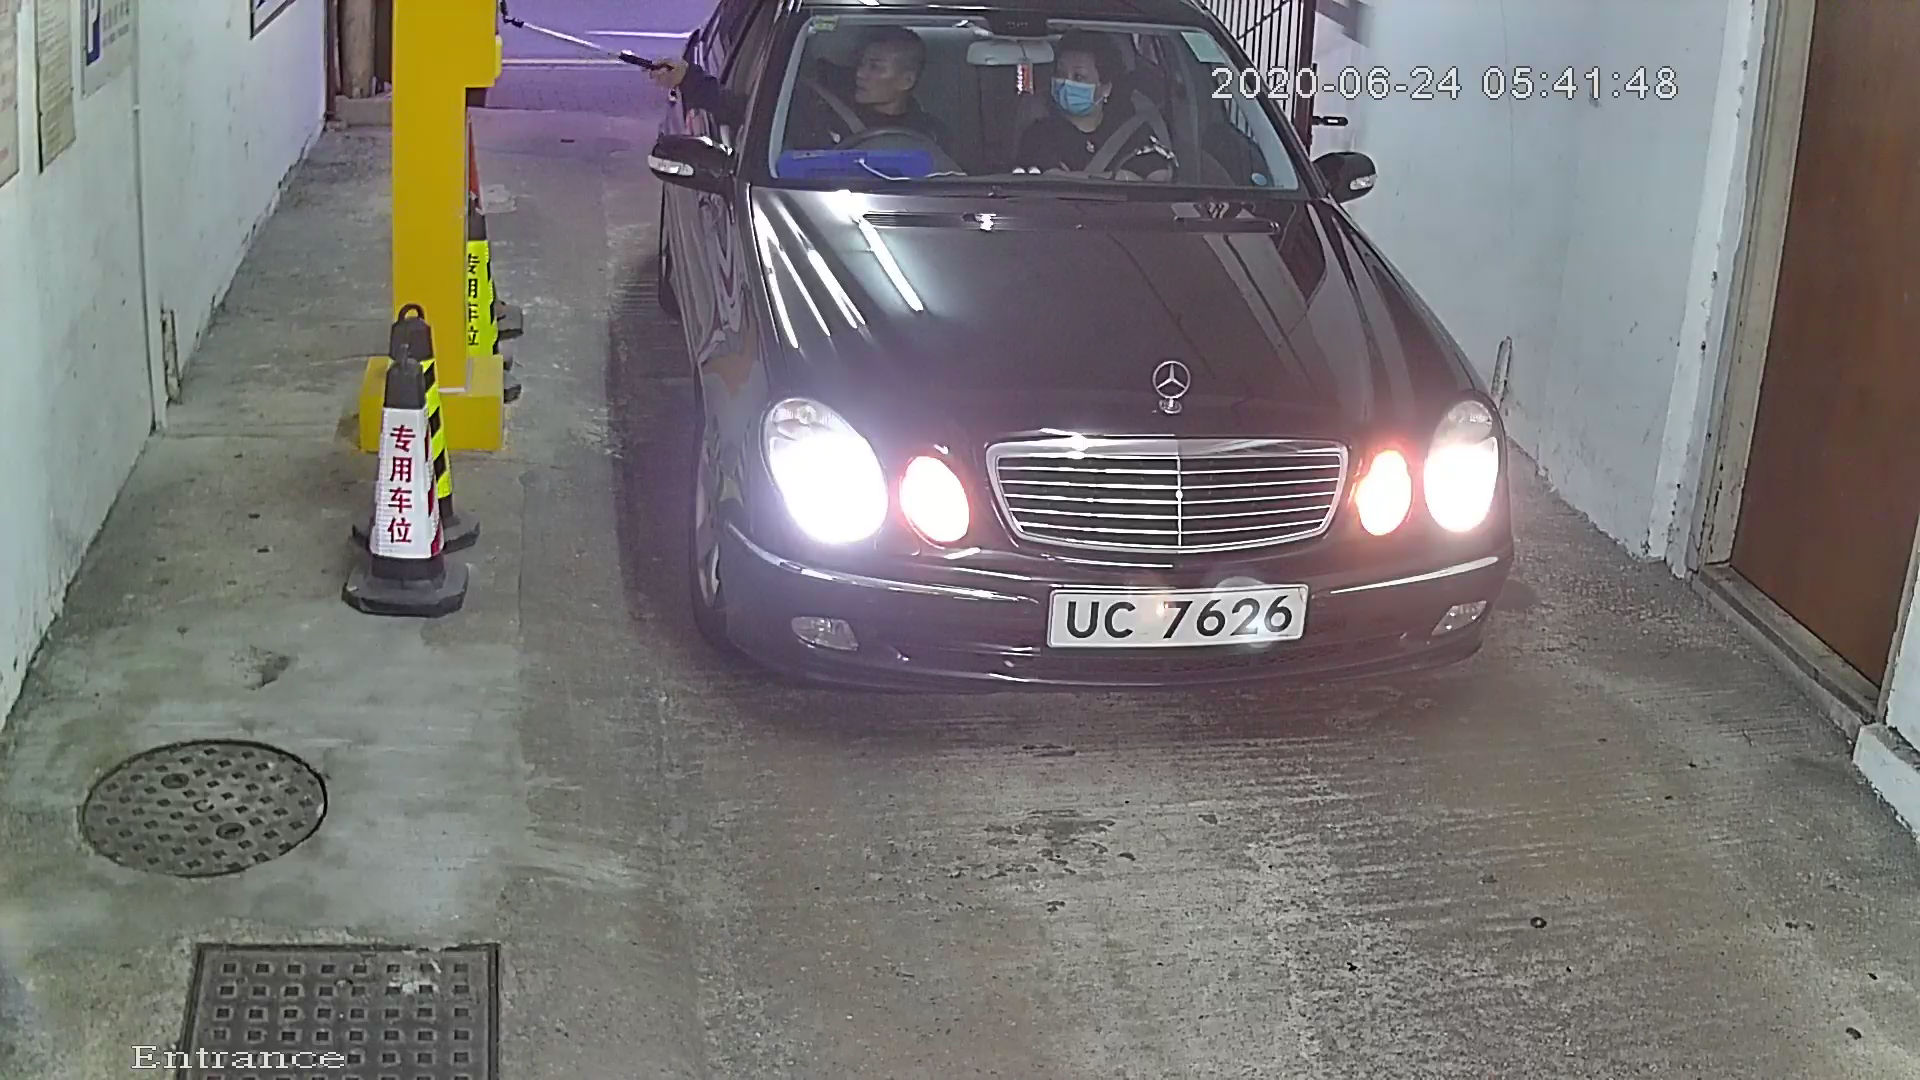privatecar: (618, 3, 1518, 727)
